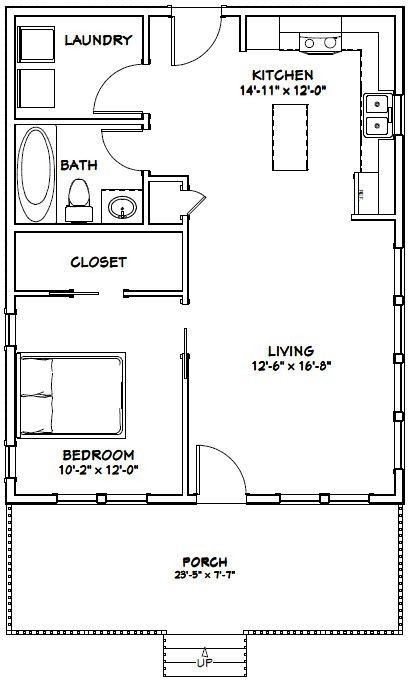door: (188, 437, 260, 516), (81, 58, 156, 113), (171, 4, 231, 69), (84, 124, 151, 179), (171, 188, 212, 220)
room: (5, 1, 408, 223), (179, 223, 411, 511), (5, 212, 198, 509)
wall: (2, 5, 20, 321), (216, 2, 401, 23), (12, 219, 186, 239), (6, 109, 146, 130), (390, 135, 411, 260), (15, 4, 177, 20), (1, 343, 24, 453), (177, 214, 196, 313), (4, 475, 61, 504), (394, 22, 411, 102), (127, 283, 182, 307), (221, 382, 222, 423)
window: (60, 487, 148, 513), (285, 490, 371, 509)
